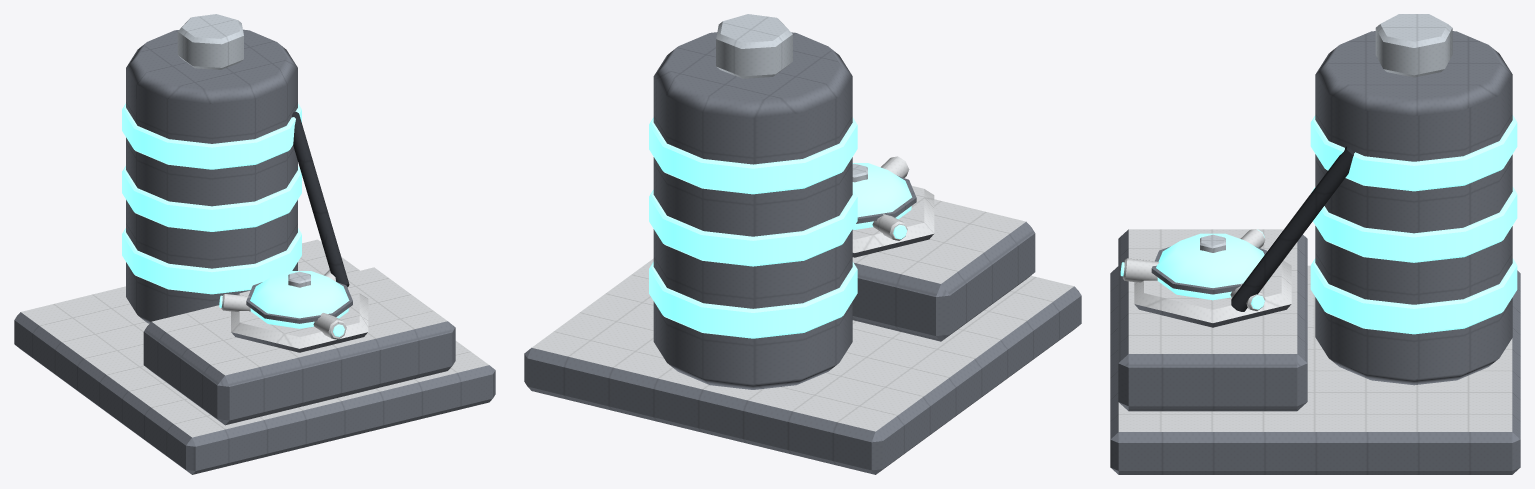
The model's file is R4X_SlowTrapDeployer_LOD1.glb.
3 renders of one model, left to right at view 1: azimuth 30°, elevation 25°; view 2: azimuth 150°, elevation 25°; view 3: azimuth 270°, elevation 25°, orthographic. The views are drawn at different scales.
Parts seen in each view (by area): view 1: R4X_SlowTrapDeployer_LOD1; view 2: R4X_SlowTrapDeployer_LOD1; view 3: R4X_SlowTrapDeployer_LOD1.
Part boxes in pixels (x1,y1,x2,y2): R4X_SlowTrapDeployer_LOD1: (14,14,495,474); R4X_SlowTrapDeployer_LOD1: (524,14,1081,474); R4X_SlowTrapDeployer_LOD1: (1110,14,1520,474).
Bounding box in the file's own units: 0.52 × 0.51 × 0.52.
Materials: 5 (4 with a texture image).
